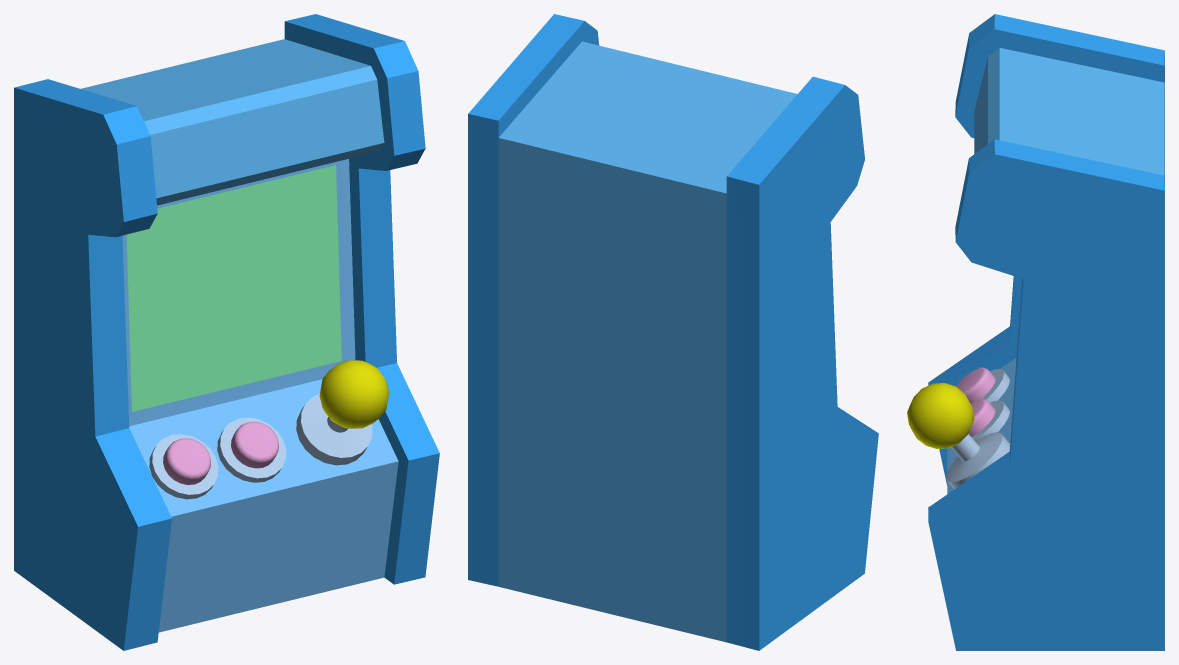
The model's file is arcademachine.fbx.
The picture shows the model from 3 angles, left to right: view 1: azimuth 30°, elevation 25°; view 2: azimuth 150°, elevation 25°; view 3: azimuth 270°, elevation 25°; orthographic projection. The views are drawn at different scales.
Visible parts, largest first — view 1: ArcadeMachine; view 2: ArcadeMachine; view 3: ArcadeMachine.
Part boxes in pixels (x1,y1,x2,y2): ArcadeMachine: (14, 14, 439, 650); ArcadeMachine: (468, 14, 878, 650); ArcadeMachine: (907, 14, 1164, 650).
Size of the model in its own units: 1.12 by 1.85 by 0.8693.
